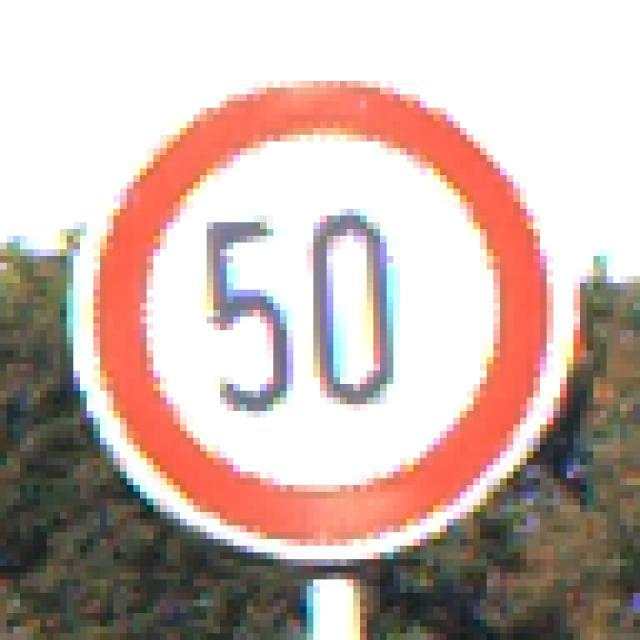speed limit 50: (64, 66, 578, 563)
